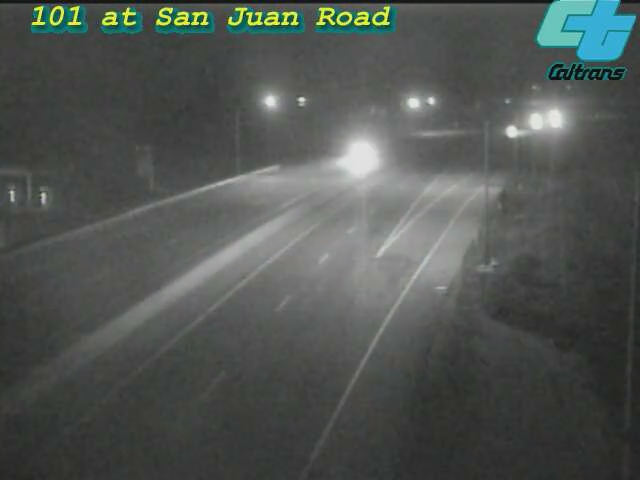vehicle: (337, 128, 387, 178), (485, 108, 535, 158), (509, 96, 559, 146), (528, 94, 578, 144)
